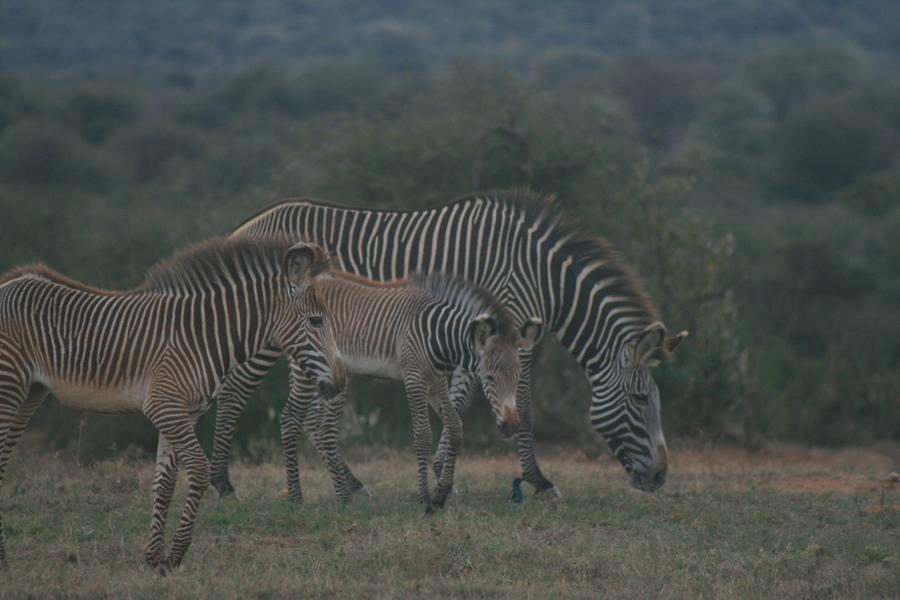zebra_grevys: (3, 241, 197, 416)
